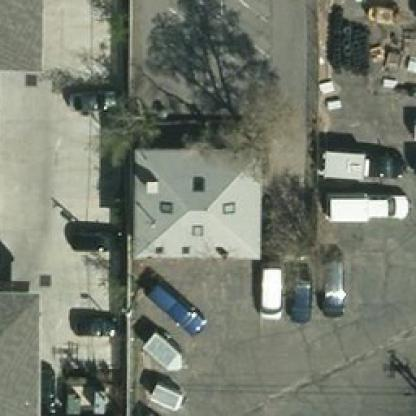car: (144, 281, 209, 332), (68, 80, 117, 116), (66, 221, 122, 252), (68, 309, 119, 338), (320, 255, 343, 317), (255, 264, 281, 314), (288, 263, 308, 322)
